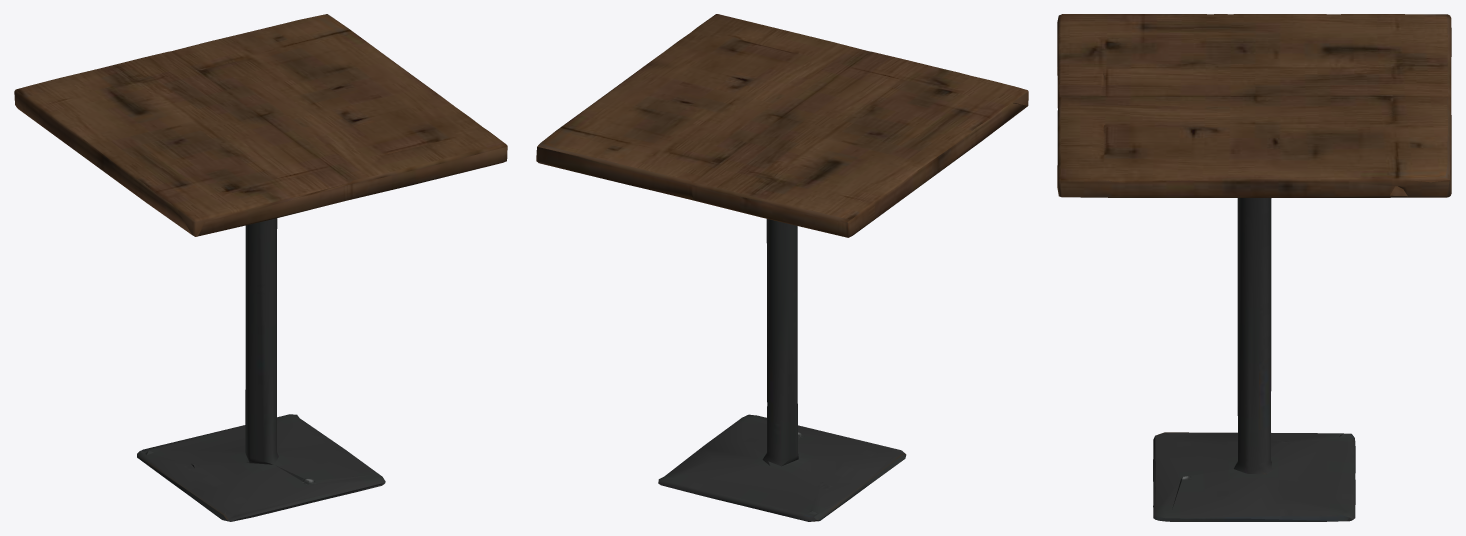
Rendered from cafetable.glb.
3 views of the same model, side by side, from view 1: azimuth 30°, elevation 25°; view 2: azimuth 150°, elevation 25°; view 3: azimuth 270°, elevation 25° (orthographic). The views are drawn at different scales.
Parts seen in each view (by area): view 1: cafetable; view 2: cafetable; view 3: cafetable.
Boxes of the visible parts, x1,y1,x2,y2 form: cafetable: [14, 14, 507, 521]; cafetable: [536, 14, 1028, 521]; cafetable: [1057, 14, 1451, 521].
Bounding box in the file's own units: 0.6331 × 0.68 × 0.6328.
Materials: 1 (1 with a texture image).
